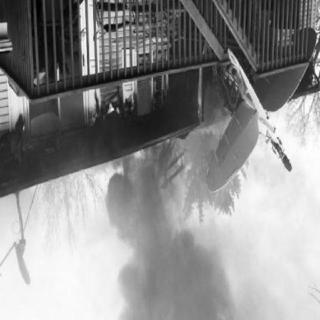Smoke: (104, 180, 220, 319)
